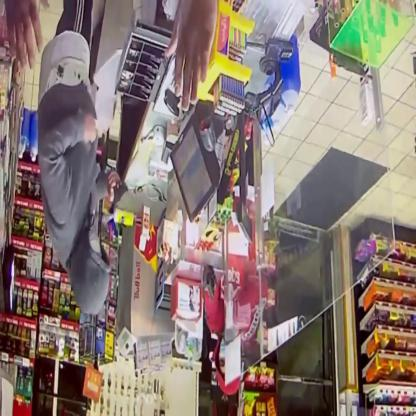Pistol: (107, 165, 129, 223)
